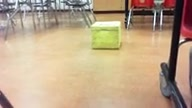cube: (91, 21, 121, 49)
